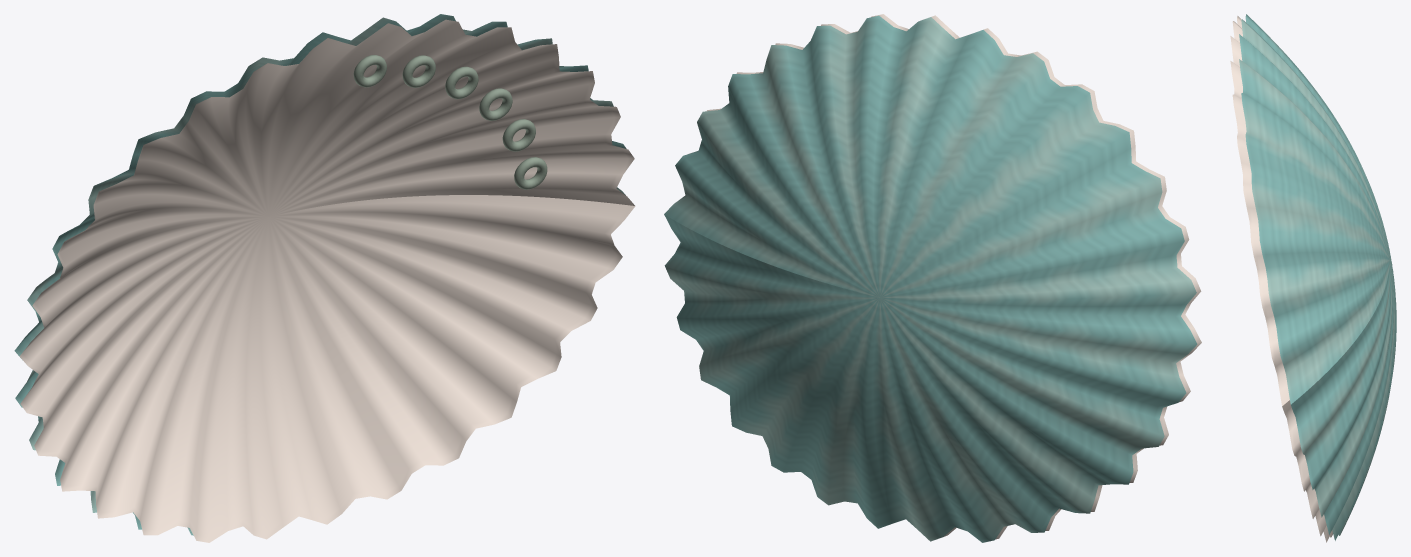
The model's file is abalone.glb.
3 views of the same model, side by side, from view 1: azimuth 30°, elevation 25°; view 2: azimuth 150°, elevation 25°; view 3: azimuth 270°, elevation 25° (orthographic). The views are drawn at different scales.
Visible parts, largest first — view 1: abalone; view 2: abalone; view 3: abalone.
Boxes of the visible parts, <box> form: abalone: <box>14,14,635,542</box>; abalone: <box>664,14,1201,542</box>; abalone: <box>1230,14,1396,542</box>.
Bounding box in the file's own units: 2.5 × 2.13 × 0.6905.
